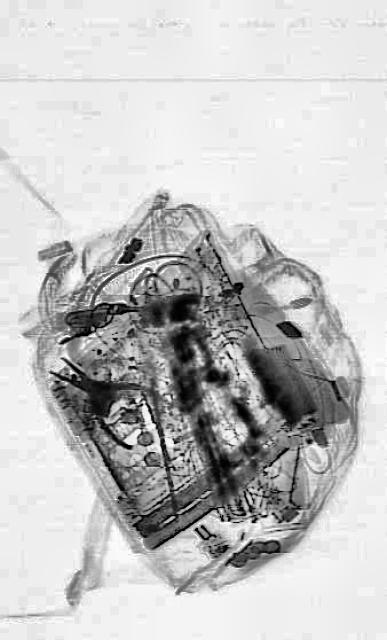Pliers: (40, 322, 176, 471)
